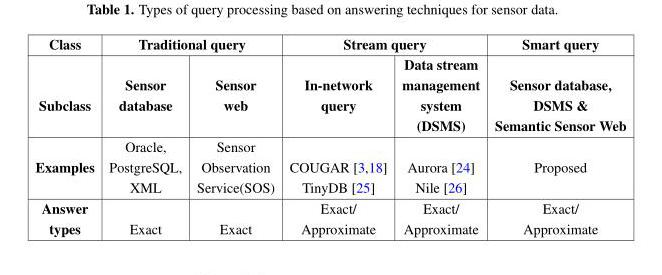table: (34, 34, 625, 237)
table column: (486, 34, 625, 237), (281, 34, 393, 237), (188, 34, 281, 237), (393, 34, 486, 237), (101, 34, 188, 237), (34, 34, 101, 237)
table column header: (34, 34, 625, 136)
table row: (34, 54, 625, 136), (34, 136, 625, 197), (34, 197, 625, 237), (34, 34, 625, 54)
table spanning cell: (486, 34, 625, 136), (34, 34, 101, 136), (281, 34, 486, 54), (101, 34, 281, 54)
